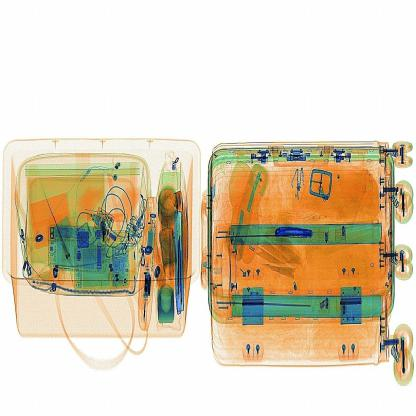knife: (270, 215, 322, 252)
